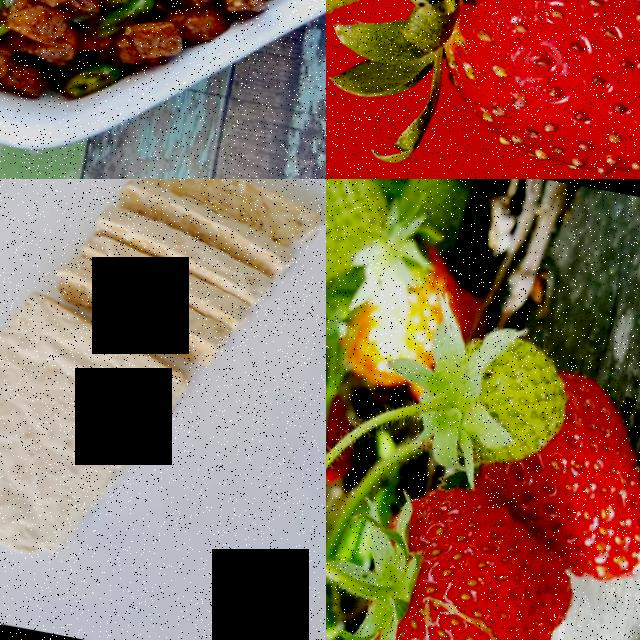strawberry: (326, 0, 640, 179), (354, 534, 570, 640), (443, 324, 569, 469), (543, 422, 640, 589)
tempeh: (0, 298, 193, 577), (54, 190, 288, 347), (134, 179, 303, 216)
